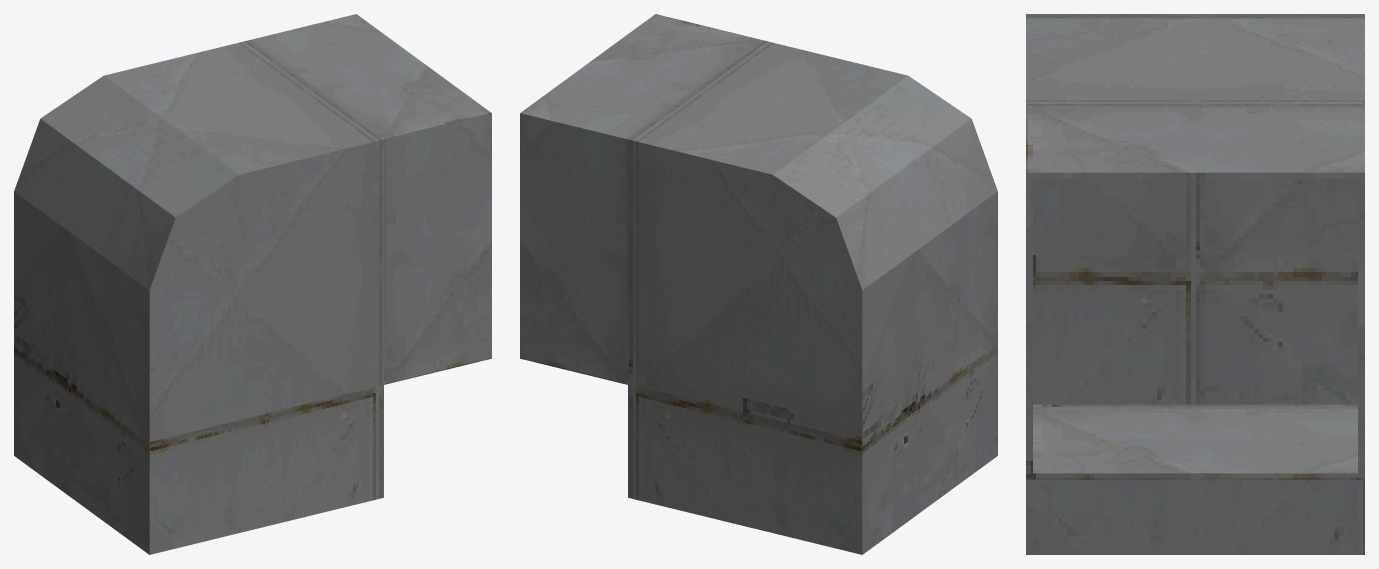
File: duct_corner_rounded.glb
3 views of the same model, side by side, from view 1: azimuth 30°, elevation 25°; view 2: azimuth 150°, elevation 25°; view 3: azimuth 270°, elevation 25° (orthographic). The views are drawn at different scales.
Parts seen in each view (by area): view 1: duct_corner_rounded; view 2: duct_corner_rounded; view 3: duct_corner_rounded.
Boxes of the visible parts, left/top/right/bottom form: duct_corner_rounded: left=14, top=14, right=491, bottom=554; duct_corner_rounded: left=520, top=14, right=997, bottom=554; duct_corner_rounded: left=1026, top=14, right=1364, bottom=554.
Bounding box in the file's own units: 1.52 × 1.52 × 1.04.
1 material, 1 textured.
